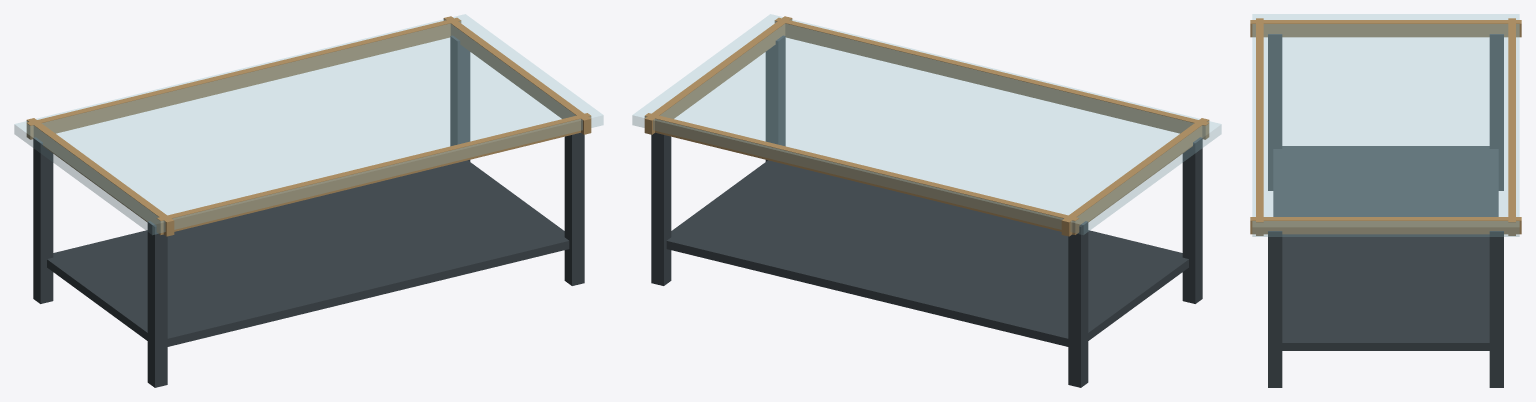
Rendered from coffee_table_glass.glb.
3 renders of one model, left to right at view 1: azimuth 30°, elevation 25°; view 2: azimuth 150°, elevation 25°; view 3: azimuth 270°, elevation 25°, orthographic. The views are drawn at different scales.
Parts seen in each view (by area): view 1: GlassTop, LowerFrame, _MeshInstance3D_12, _MeshInstance3D_11, _MeshInstance3D_7, SlimLeg, _MeshInstance3D_10, EdgeRail, _MeshInstance3D_8, _MeshInstance3D_9; view 2: GlassTop, LowerFrame, _MeshInstance3D_11, _MeshInstance3D_12, SlimLeg, _MeshInstance3D_7, _MeshInstance3D_9, EdgeRail, _MeshInstance3D_8, _MeshInstance3D_10; view 3: GlassTop, LowerFrame, EdgeRail, _MeshInstance3D_8, _MeshInstance3D_9, _MeshInstance3D_10, SlimLeg, _MeshInstance3D_7, _MeshInstance3D_12, _MeshInstance3D_11.
Boxes of the visible parts, <box> form: GlassTop: <box>14,14,603,234</box>; LowerFrame: <box>47,160,569,346</box>; _MeshInstance3D_12: <box>156,113,591,234</box>; _MeshInstance3D_11: <box>26,17,461,139</box>; _MeshInstance3D_7: <box>147,221,167,387</box>; SlimLeg: <box>33,137,53,303</box>; _MeshInstance3D_10: <box>564,132,584,285</box>; EdgeRail: <box>26,118,174,236</box>; _MeshInstance3D_8: <box>443,16,591,134</box>; _MeshInstance3D_9: <box>450,35,470,161</box>; GlassTop: <box>632,14,1221,234</box>; LowerFrame: <box>666,160,1188,346</box>; _MeshInstance3D_11: <box>644,113,1079,234</box>; _MeshInstance3D_12: <box>774,17,1209,139</box>; SlimLeg: <box>1068,221,1088,387</box>; _MeshInstance3D_7: <box>1182,137,1202,303</box>; _MeshInstance3D_9: <box>651,132,671,285</box>; EdgeRail: <box>1061,118,1209,236</box>; _MeshInstance3D_8: <box>644,16,792,134</box>; _MeshInstance3D_10: <box>765,35,785,161</box>; GlassTop: <box>1252,14,1519,236</box>; LowerFrame: <box>1273,146,1498,350</box>; EdgeRail: <box>1250,20,1521,37</box>; _MeshInstance3D_8: <box>1250,217,1521,234</box>; _MeshInstance3D_9: <box>1489,231,1503,387</box>; _MeshInstance3D_10: <box>1268,231,1282,387</box>; SlimLeg: <box>1489,34,1503,190</box>; _MeshInstance3D_7: <box>1268,34,1282,190</box>; _MeshInstance3D_12: <box>1256,18,1263,235</box>; _MeshInstance3D_11: <box>1508,18,1515,235</box>.
Size of the model in its own units: 1.32 by 0.48 by 0.71.
